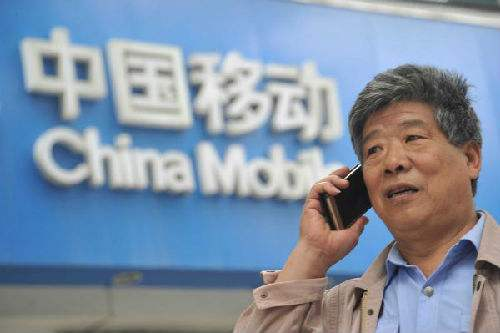phone: (303, 160, 374, 235)
talk: (301, 112, 448, 257)
